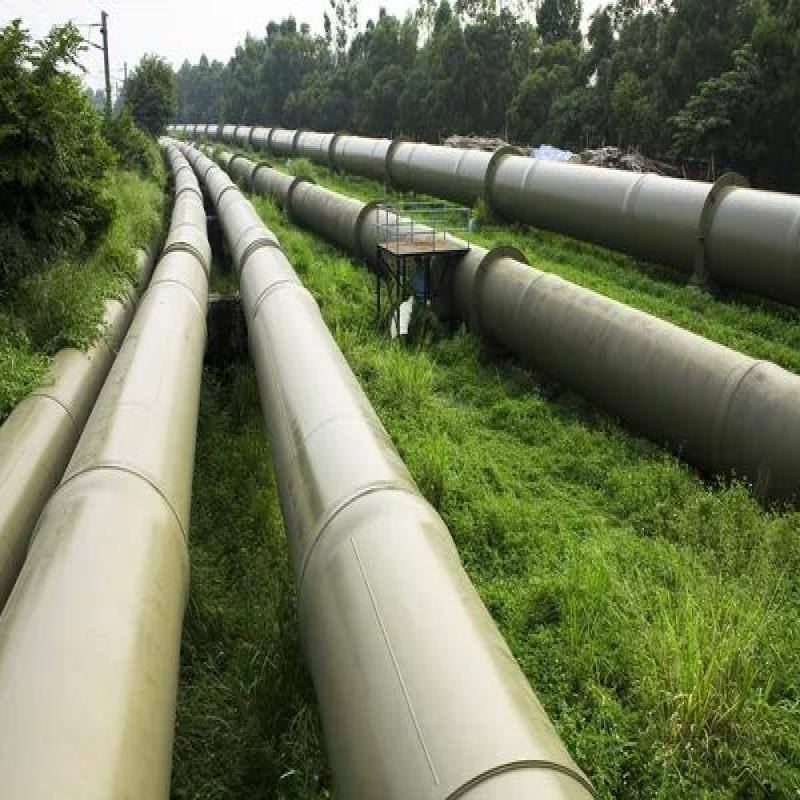Healthy: (223, 153, 509, 800)
